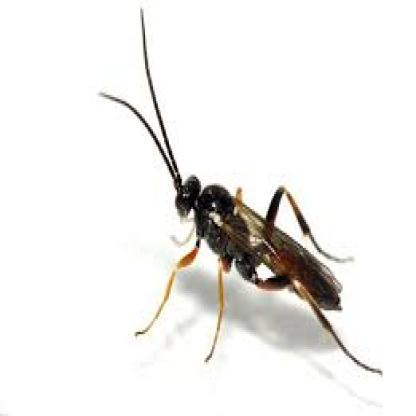sawfly: (96, 14, 378, 381)
